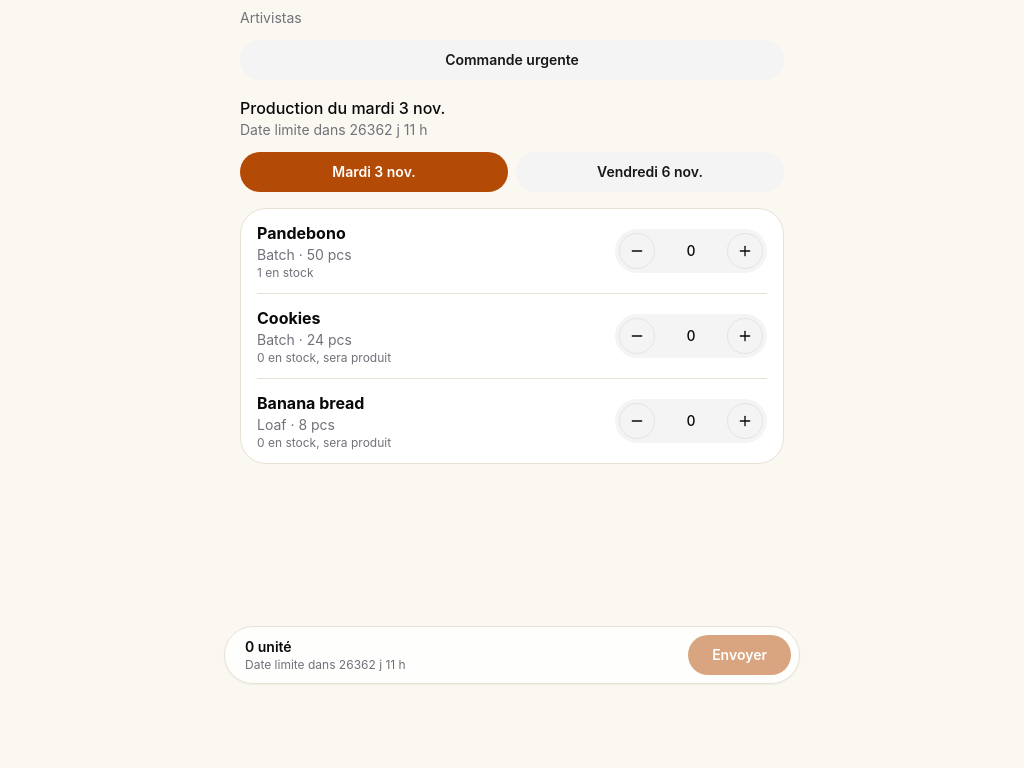
Test: CafeHome › opens the urgent sheet from the always-visible button
Click the button "Commande urgente" at {"x": 512, "y": 60}, box x1=240 y1=40 x2=784 y2=80
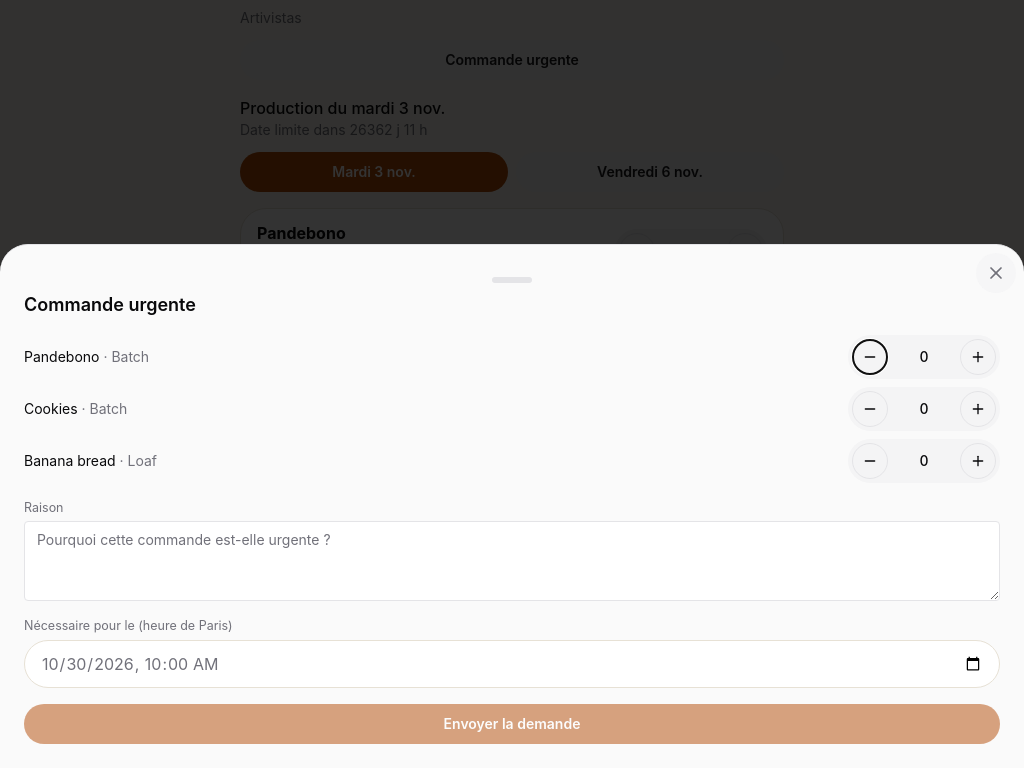
Expected: the button "Envoyer la demande" is shown, x1=24 y1=704 x2=1000 y2=744
